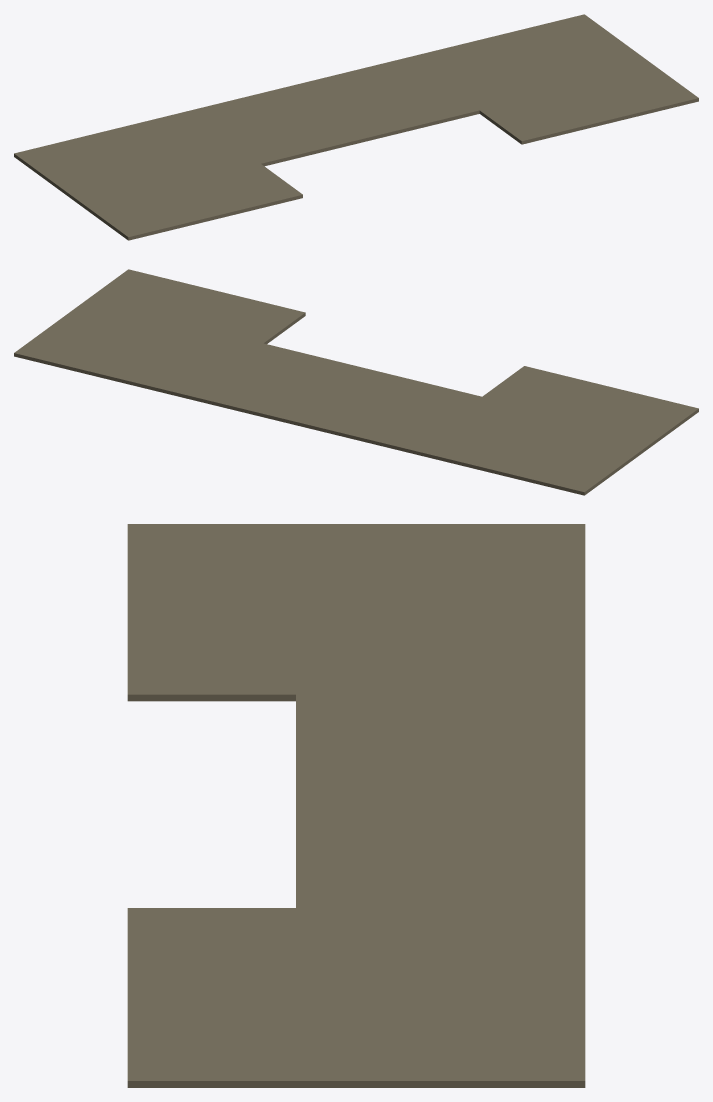
The model's file is TempleTile_E.fbx.
3 renders of one model, top to bottom at view 1: azimuth 30°, elevation 25°; view 2: azimuth 150°, elevation 25°; view 3: azimuth 270°, elevation 25°, orthographic. The views are drawn at different scales.
Visible parts, largest first — view 1: TempleTile_E; view 2: TempleTile_E; view 3: TempleTile_E.
Boxes of the visible parts, x1,y1,x2,y2 form: TempleTile_E: (14,14,698,240); TempleTile_E: (14,269,698,495); TempleTile_E: (127,524,585,1087).
Bounding box in the file's own units: 3646 × 20.94 × 1267.
